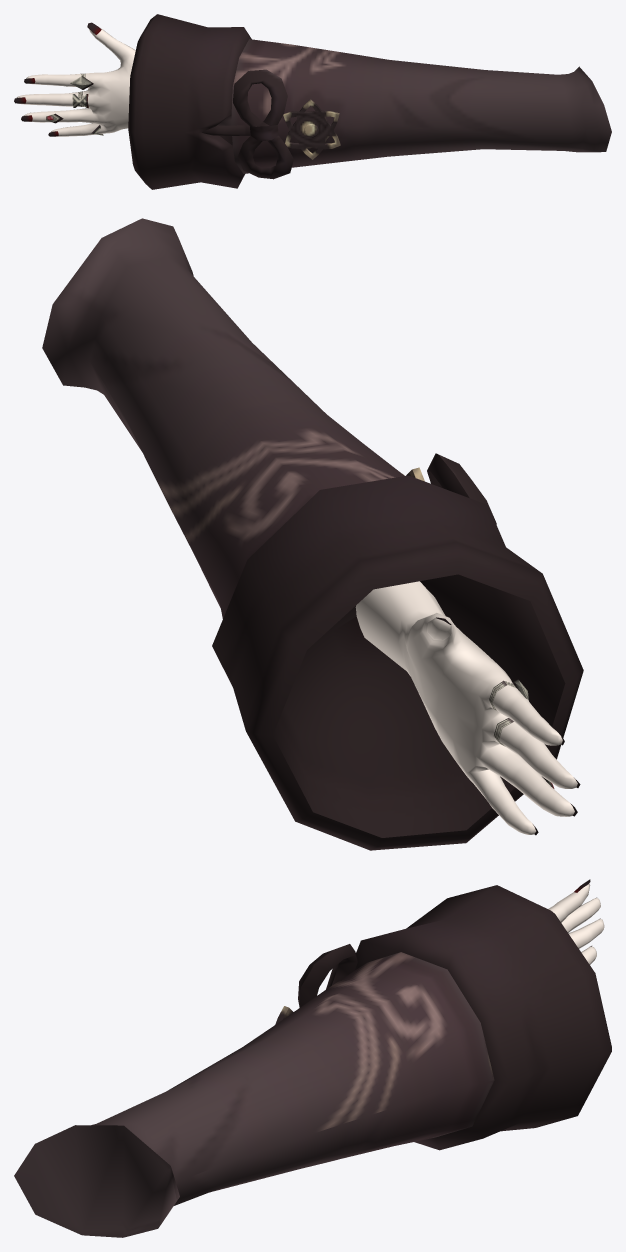
File: hutao_brazo_izq.obj
3 renders of one model, top to bottom at view 1: azimuth 30°, elevation 25°; view 2: azimuth 150°, elevation 25°; view 3: azimuth 270°, elevation 25°, orthographic. The views are drawn at different scales.
Parts seen in each view (by area): view 1: 胡桃_mesh_胡桃.002; view 2: 胡桃_mesh_胡桃.002; view 3: 胡桃_mesh_胡桃.002.
Boxes of the visible parts, <box> form: 胡桃_mesh_胡桃.002: <box>14,14,611,189</box>; 胡桃_mesh_胡桃.002: <box>42,218,583,850</box>; 胡桃_mesh_胡桃.002: <box>14,879,611,1237</box>.
Bounding box in the file's own units: 5.38 × 1.92 × 4.62.
